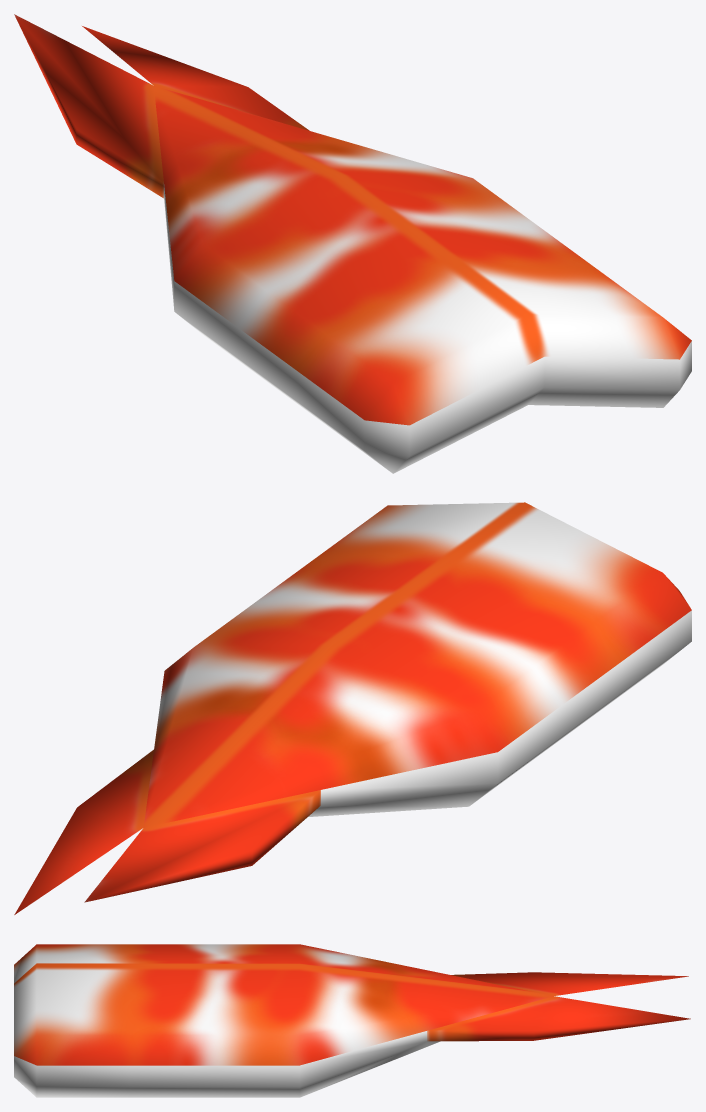
Rendered from ebi.fbx.
3 renders of one model, top to bottom at view 1: azimuth 30°, elevation 25°; view 2: azimuth 150°, elevation 25°; view 3: azimuth 270°, elevation 25°, orthographic. The views are drawn at different scales.
Visible parts, largest first — view 1: ebi; view 2: ebi; view 3: ebi.
Part boxes in pixels (left/top/right/bottom): ebi: left=14, top=14, right=691, bottom=473; ebi: left=14, top=502, right=691, bottom=914; ebi: left=14, top=944, right=690, bottom=1097.
Bounding box in the file's own units: 49.72 × 18.33 × 129.
